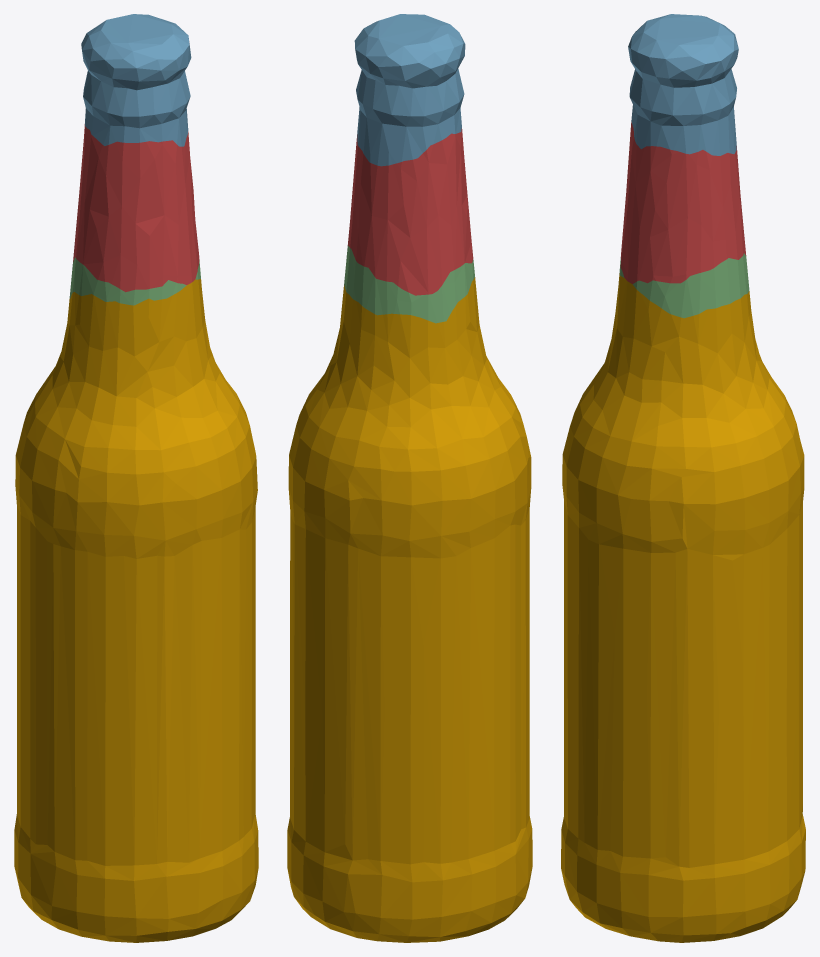
The model's file is fractured_33_4pcs.glb.
The picture shows the model from 3 angles, left to right: view 1: azimuth 30°, elevation 25°; view 2: azimuth 150°, elevation 25°; view 3: azimuth 270°, elevation 25°; orthographic projection.
Visible parts, largest first — view 1: piece_0.obj, piece_1.obj, piece_2.obj, piece_3.obj; view 2: piece_0.obj, piece_1.obj, piece_2.obj, piece_3.obj; view 3: piece_0.obj, piece_1.obj, piece_2.obj, piece_3.obj.
Boxes of the visible parts, left/top/right/bottom form: piece_0.obj: left=14, top=279, right=258, bottom=942; piece_1.obj: left=73, top=124, right=199, bottom=292; piece_2.obj: left=81, top=14, right=191, bottom=146; piece_3.obj: left=69, top=257, right=200, bottom=305; piece_0.obj: left=287, top=277, right=532, bottom=942; piece_1.obj: left=347, top=128, right=473, bottom=295; piece_2.obj: left=354, top=14, right=465, bottom=166; piece_3.obj: left=344, top=246, right=474, bottom=323; piece_0.obj: left=561, top=273, right=805, bottom=942; piece_1.obj: left=620, top=122, right=746, bottom=283; piece_2.obj: left=628, top=14, right=738, bottom=155; piece_3.obj: left=619, top=253, right=749, bottom=318.
Size of the model in its own units: 0.2521 by 1 by 0.2519.
